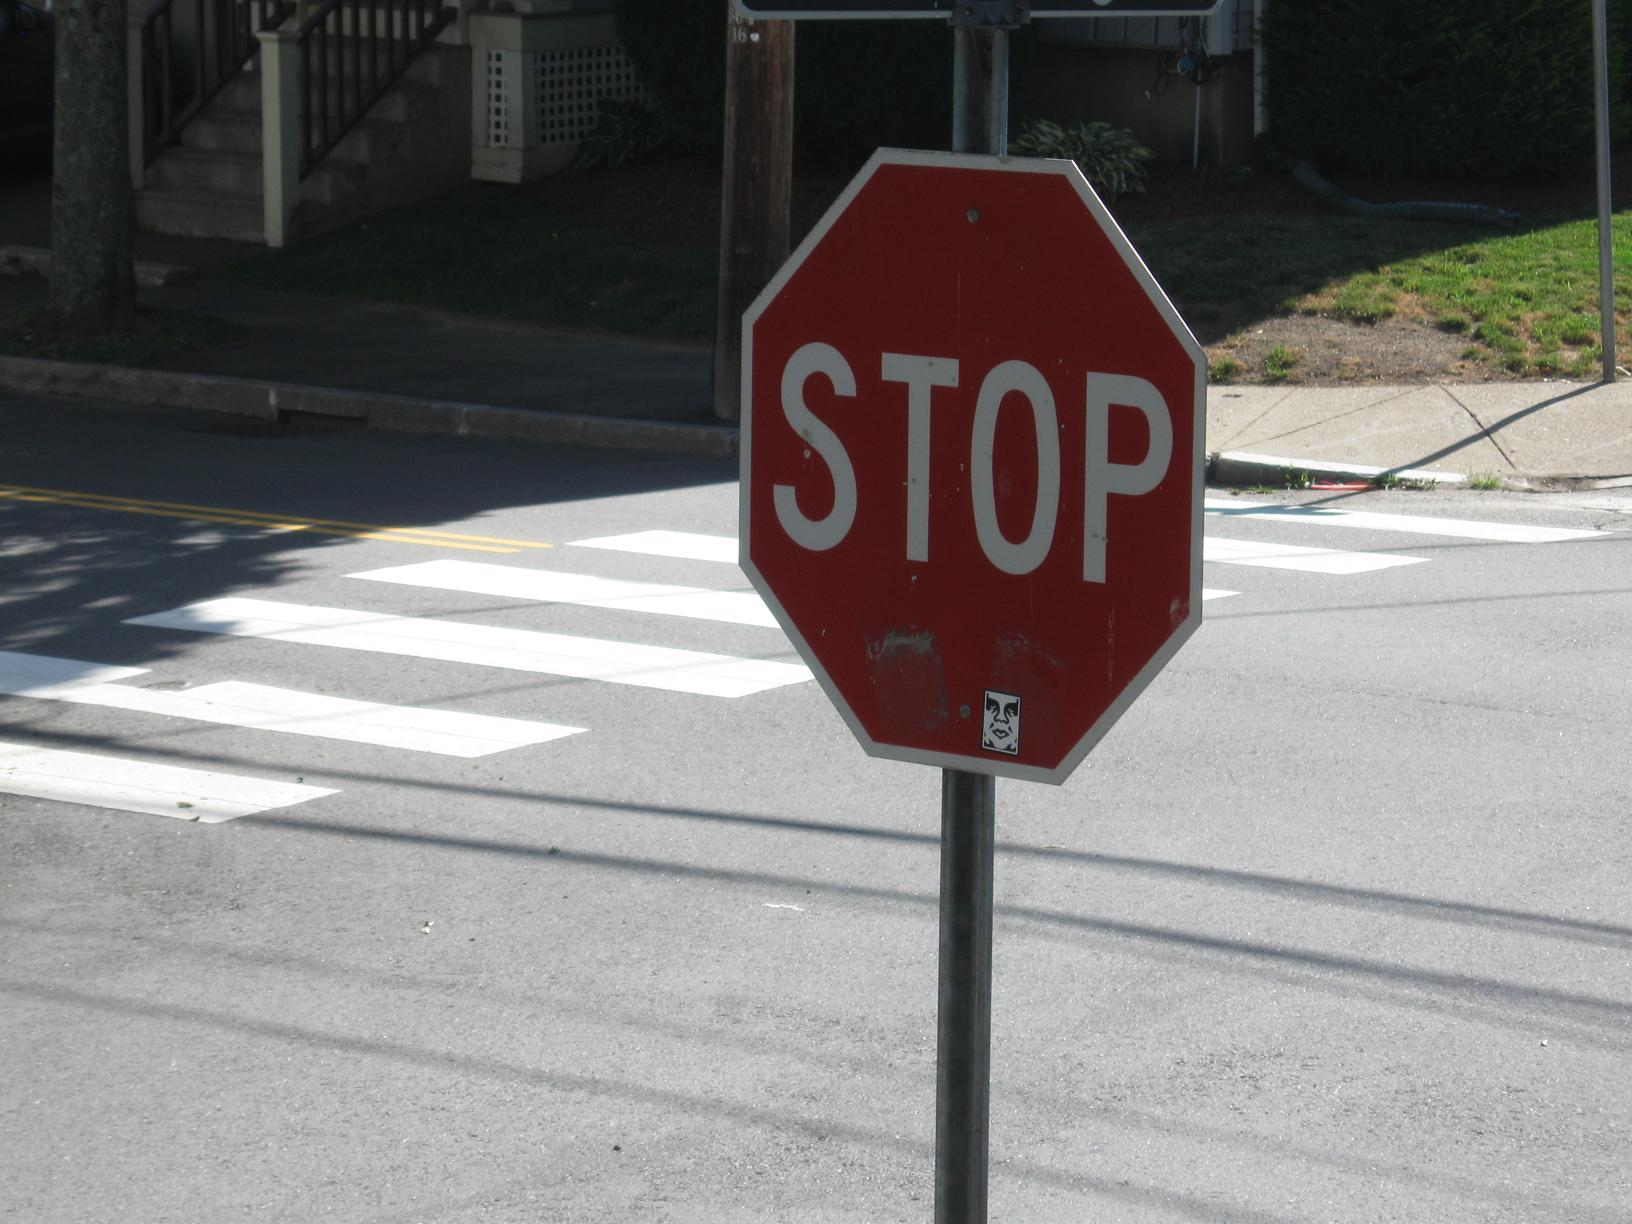stop: (729, 150, 1196, 774)
